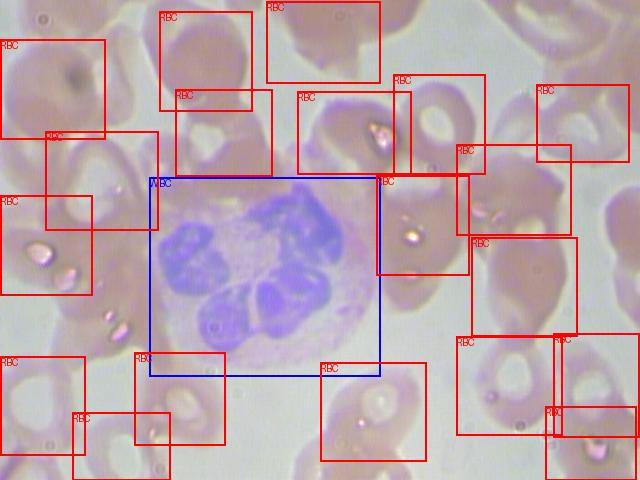RBC: (45, 131, 158, 230), (0, 39, 105, 139), (456, 336, 562, 435), (471, 237, 577, 336), (320, 362, 426, 461), (456, 144, 571, 235), (297, 91, 411, 174), (266, 1, 380, 83), (159, 11, 252, 111), (376, 175, 469, 275), (393, 74, 485, 174), (0, 195, 92, 295), (553, 333, 639, 437), (134, 352, 225, 445), (175, 89, 272, 176), (0, 356, 85, 455), (536, 84, 629, 162), (545, 406, 636, 480), (72, 412, 170, 480)
WBC: (149, 177, 380, 376)
